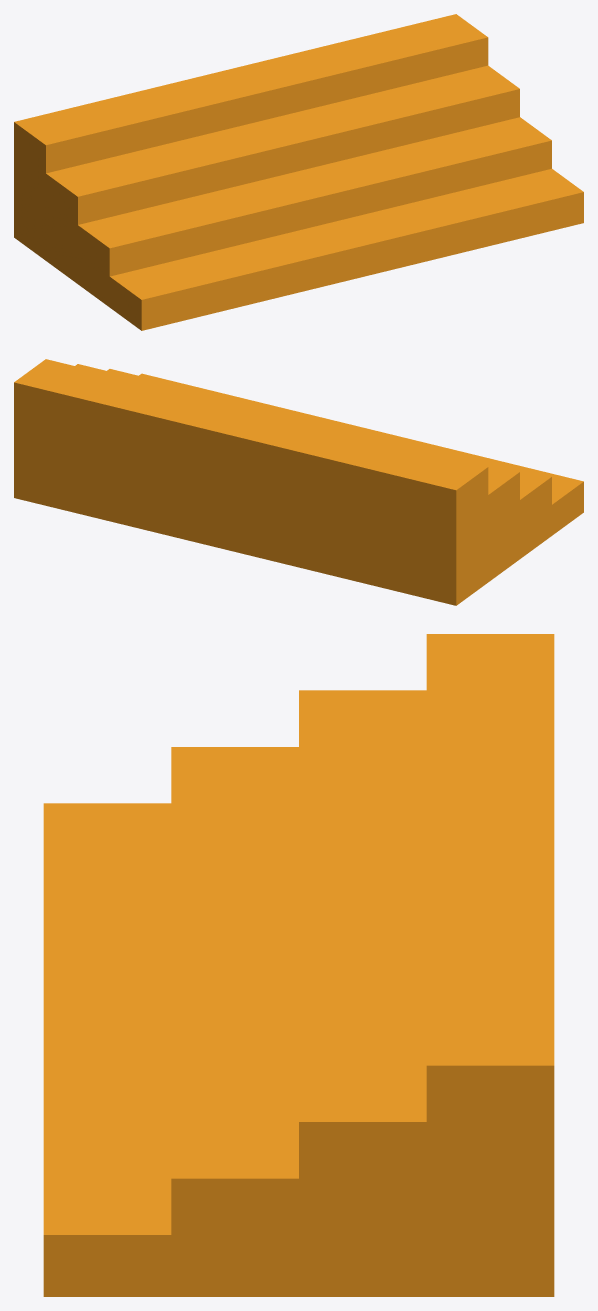
File: SM_Buildings_Stairs_1x2_01.fbx
3 views of the same model, one above another, from view 1: azimuth 30°, elevation 25°; view 2: azimuth 150°, elevation 25°; view 3: azimuth 270°, elevation 25° (orthographic). The views are drawn at different scales.
Visible parts, largest first — view 1: SM_Buildings_Stairs_1x2_01; view 2: SM_Buildings_Stairs_1x2_01; view 3: SM_Buildings_Stairs_1x2_01.
Boxes of the visible parts, x1=… form: SM_Buildings_Stairs_1x2_01: x1=14, y1=14, x2=583, y2=330; SM_Buildings_Stairs_1x2_01: x1=14, y1=359, x2=583, y2=605; SM_Buildings_Stairs_1x2_01: x1=43, y1=634, x2=554, y2=1296.
Bounding box in the file's own units: 200 × 49.95 × 100.
